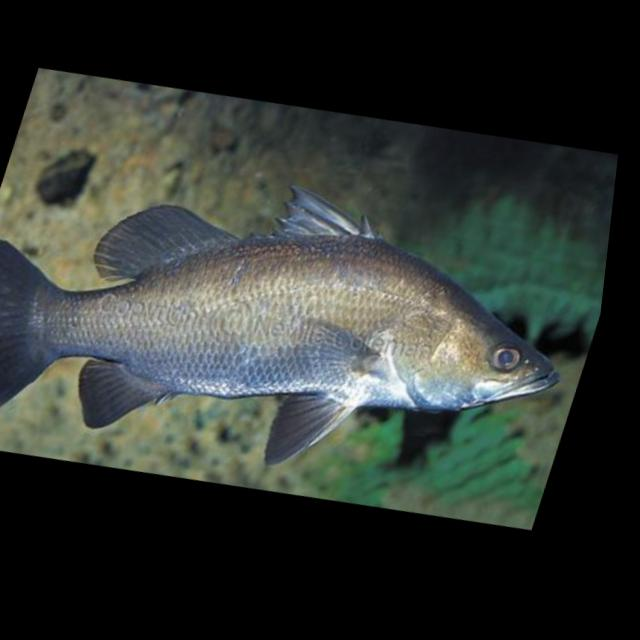Seabass: (0, 100, 621, 542)
